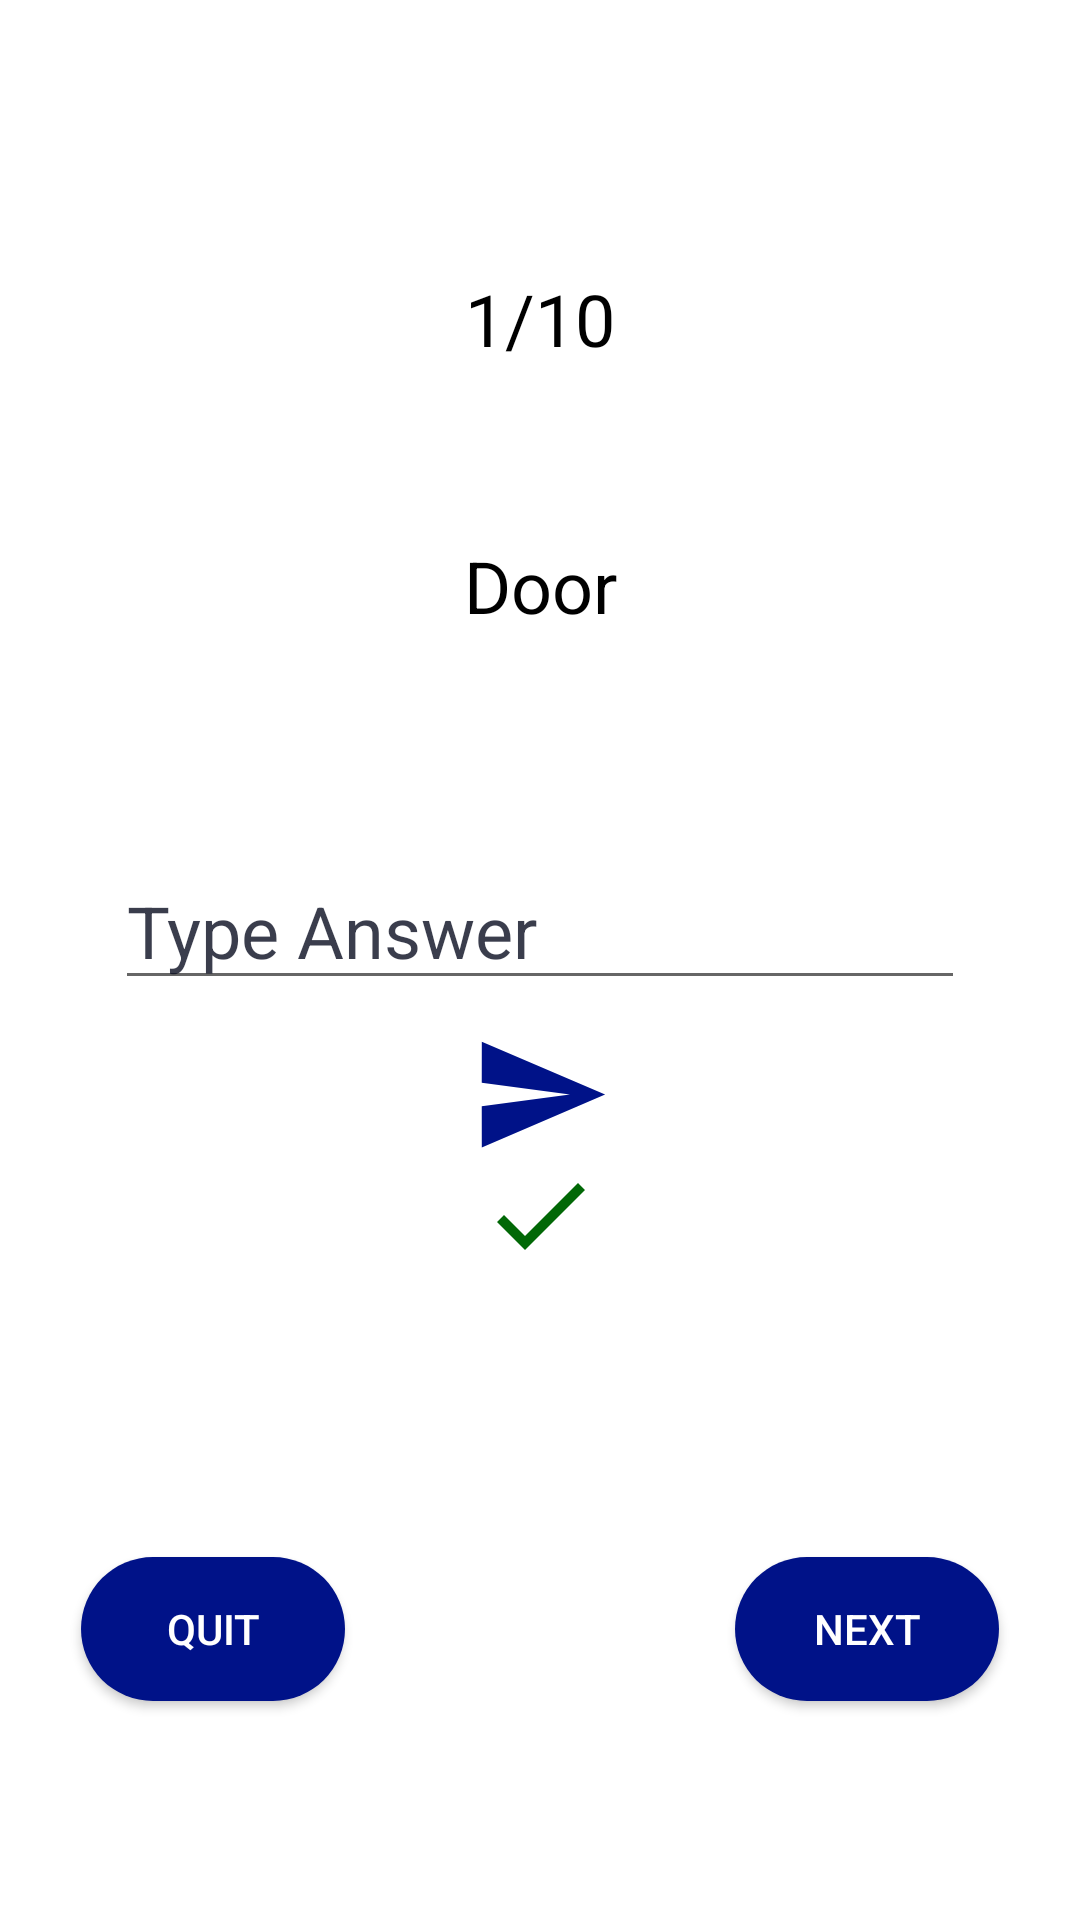

Icons on this 1080×1920 Android screen, each with the point to tap as (x,y):
send: (543,1095)
true: (541,1216)
